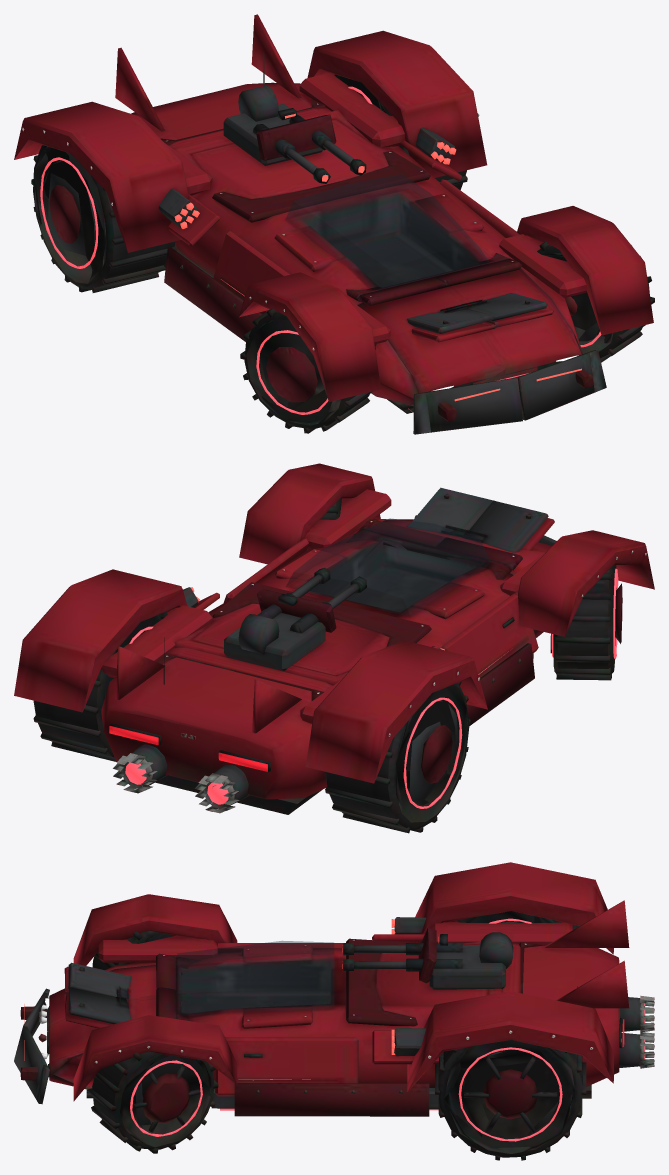
File: CRX1_interceptor_battle_lod1.glb
3 views of the same model, one above another, from view 1: azimuth 30°, elevation 25°; view 2: azimuth 150°, elevation 25°; view 3: azimuth 270°, elevation 25° (orthographic). The views are drawn at different scales.
Visible parts, largest first — view 1: CRX1_interceptor_battle_LOD1; view 2: CRX1_interceptor_battle_LOD1; view 3: CRX1_interceptor_battle_LOD1.
Boxes of the visible parts, x1,y1,x2,y2 form: CRX1_interceptor_battle_LOD1: (14,14,654,434); CRX1_interceptor_battle_LOD1: (14,463,654,833); CRX1_interceptor_battle_LOD1: (14,862,654,1160).
Size of the model in its own units: 4.1 by 1.75 by 6.73.
Materials: 9 (5 with a texture image).
